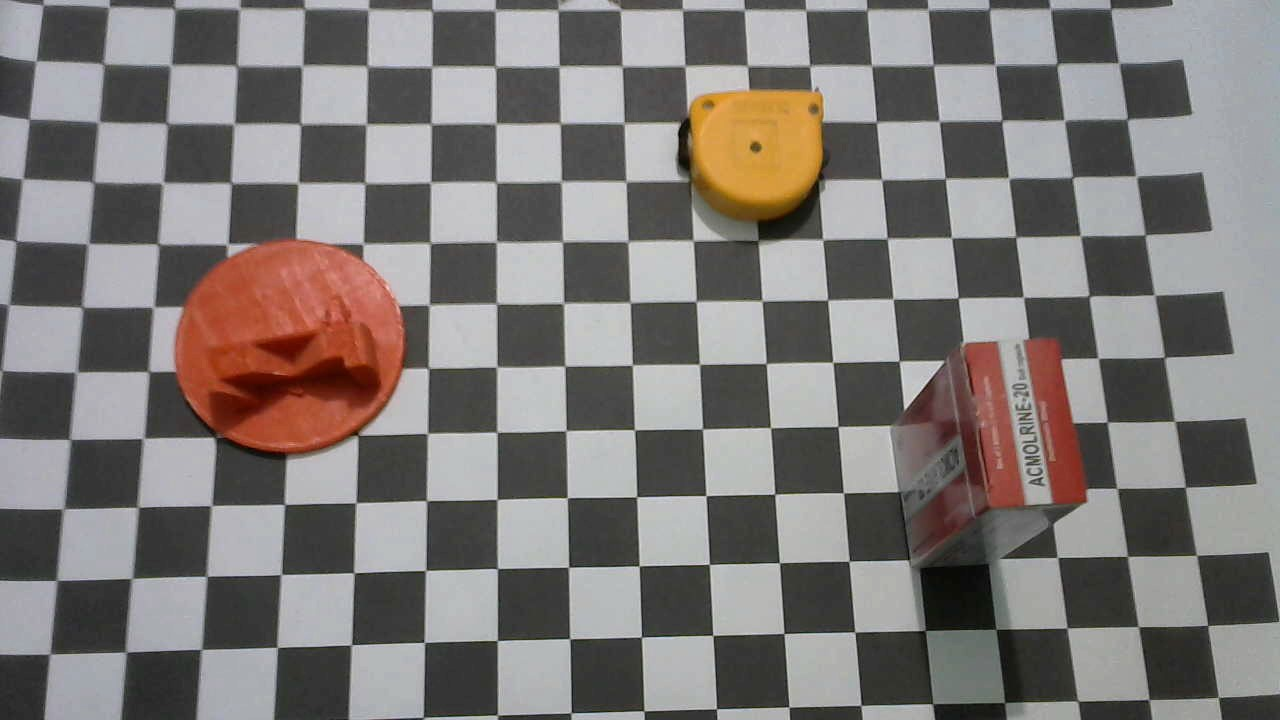blue: (677, 87, 829, 221)
green: (173, 240, 407, 457)
red: (890, 341, 1089, 568)
